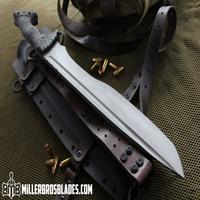knife: (13, 7, 188, 182)
